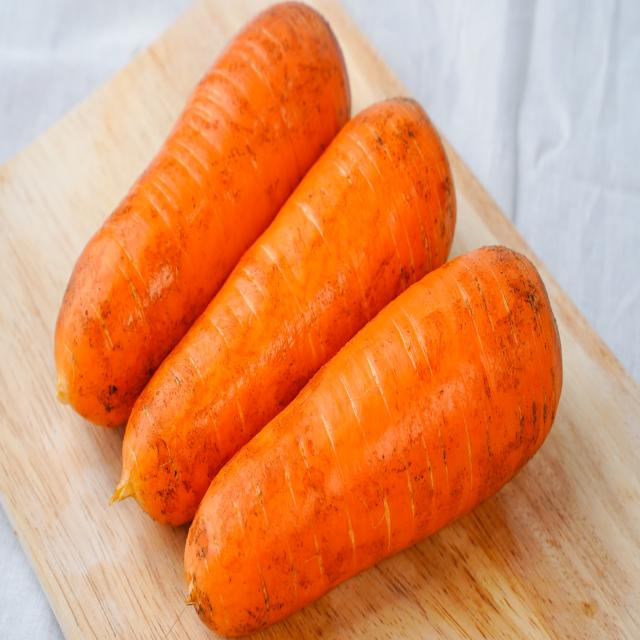carrot: (120, 88, 460, 542), (184, 249, 566, 640), (54, 7, 353, 435)
